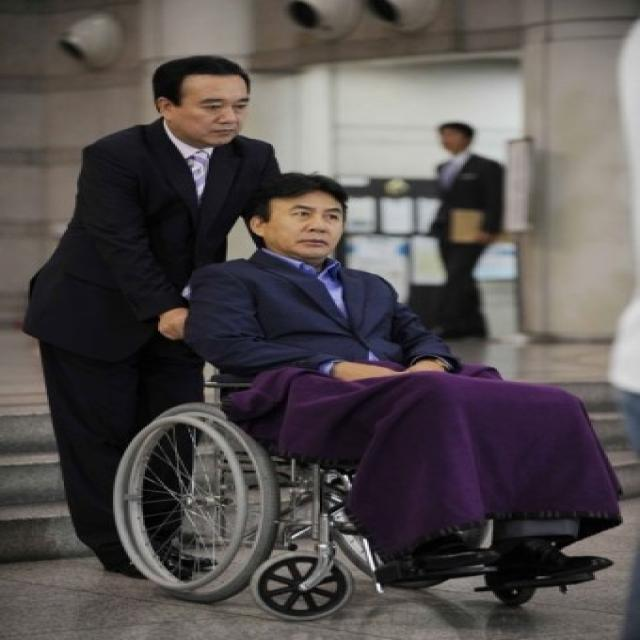wheelchair: (117, 173, 623, 618)
